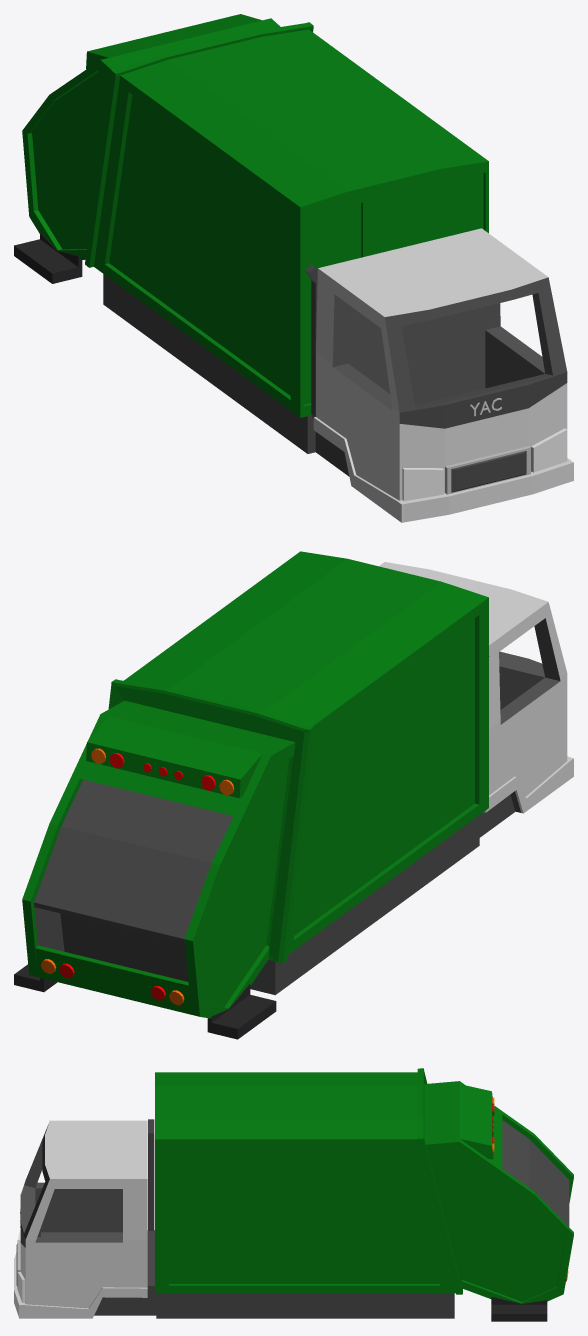
Rendered from garbagetruck.fbx.
3 views of the same model, one above another, from view 1: azimuth 30°, elevation 25°; view 2: azimuth 150°, elevation 25°; view 3: azimuth 270°, elevation 25° (orthographic). The views are drawn at different scales.
Parts seen in each view (by area): view 1: Cube.001, Cube; view 2: Cube.001, Cube; view 3: Cube.001, Cube.
Part boxes in pixels (<box>): Cube.001: <box>14,14,488,476</box>; Cube: <box>305,228,573,522</box>; Cube.001: <box>14,551,515,1039</box>; Cube: <box>379,562,573,813</box>; Cube.001: <box>94,1068,573,1321</box>; Cube: <box>14,1119,154,1318</box>.
Size of the model in its own units: 321 by 352 by 954.
